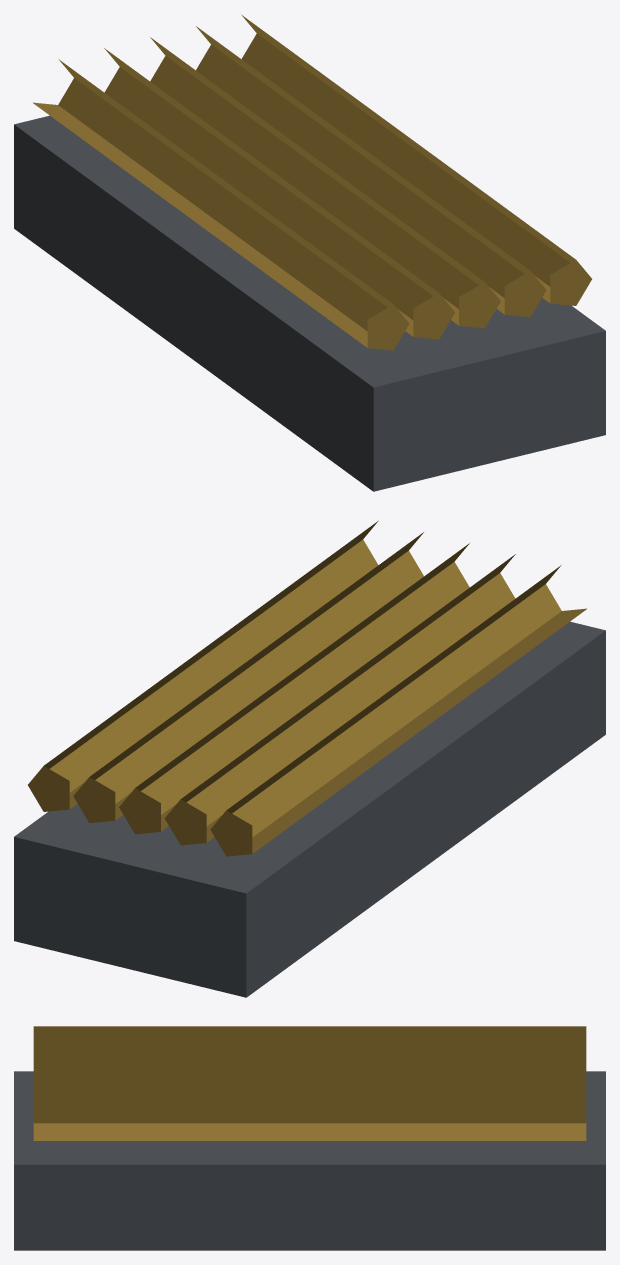
The model's file is wpn_mag_bolt_a.glb.
3 views of the same model, one above another, from view 1: azimuth 30°, elevation 25°; view 2: azimuth 150°, elevation 25°; view 3: azimuth 270°, elevation 25° (orthographic). The views are drawn at different scales.
Visible parts, largest first — view 1: wpn_mag_bolt_a_LOD0; view 2: wpn_mag_bolt_a_LOD0; view 3: wpn_mag_bolt_a_LOD0.
Boxes of the visible parts, x1,y1,x2,y2 form: wpn_mag_bolt_a_LOD0: (14,14,605,491); wpn_mag_bolt_a_LOD0: (14,520,605,997); wpn_mag_bolt_a_LOD0: (14,1026,605,1250).
Bounding box in the file's own units: 0.028 × 0.0197 × 0.075.
